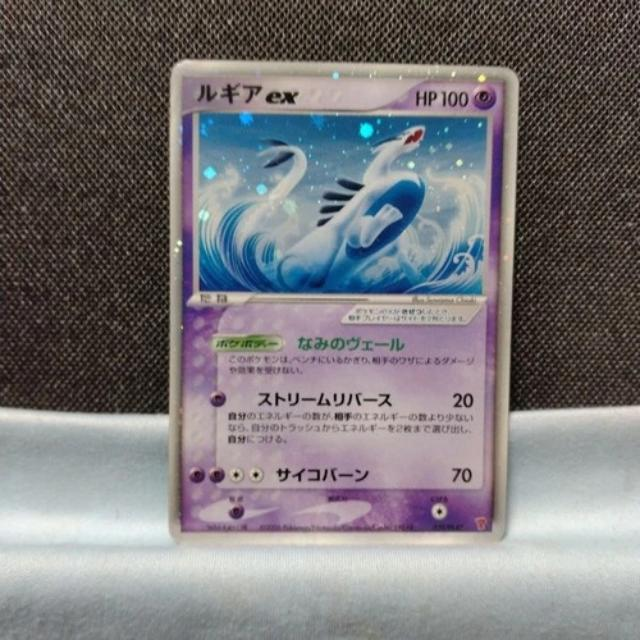Card: (162, 53, 523, 550)
Name: (188, 75, 313, 111)
